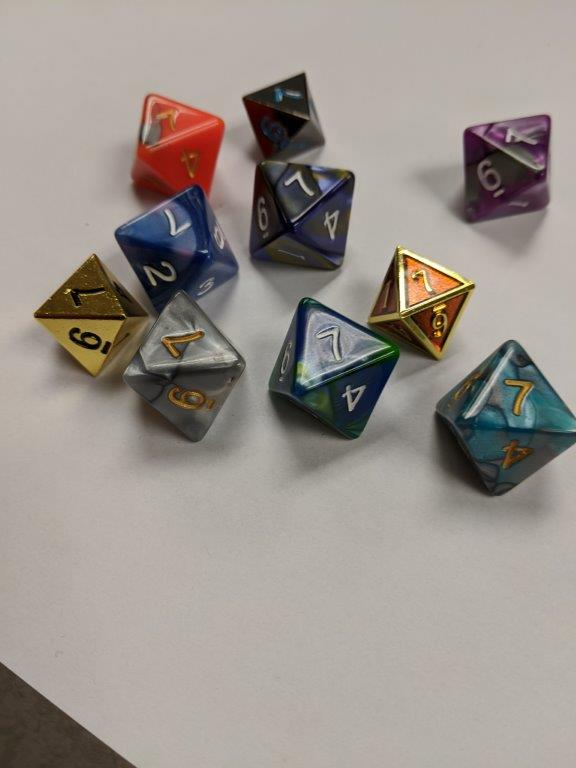d8-7: (434, 336, 576, 498), (262, 295, 402, 445), (122, 292, 242, 445), (111, 185, 239, 314), (29, 252, 147, 389), (365, 244, 476, 363), (248, 160, 356, 272), (124, 91, 229, 202), (463, 116, 554, 222), (242, 72, 329, 160)
